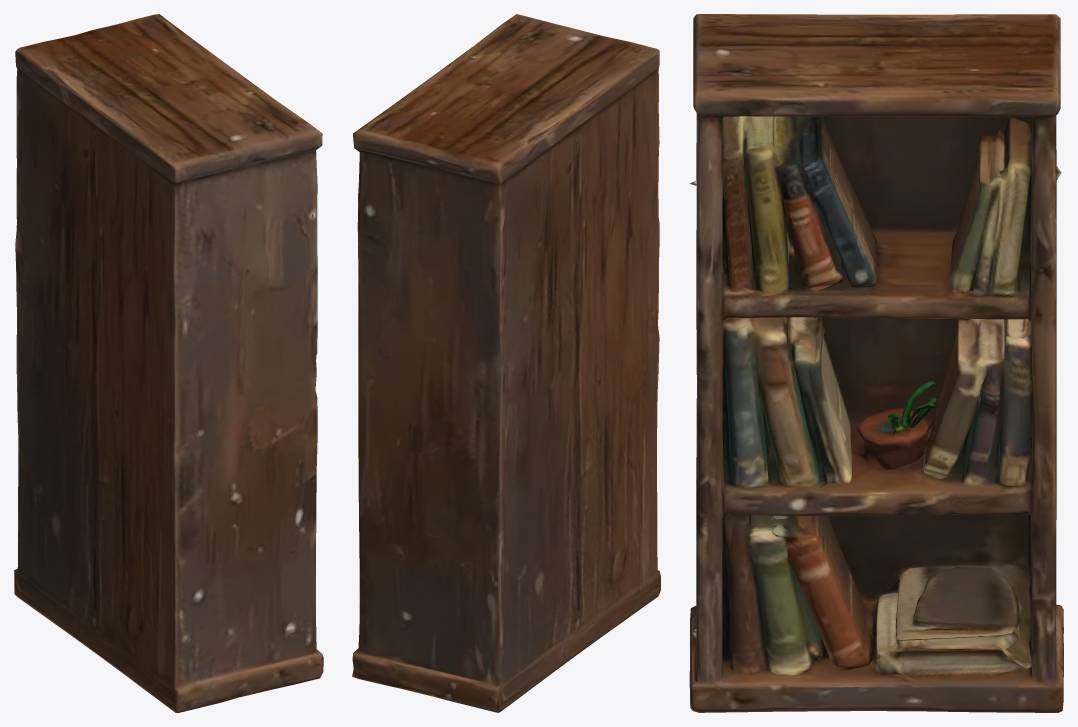
The model's file is de_bookshelf.glb.
3 views of the same model, side by side, from view 1: azimuth 30°, elevation 25°; view 2: azimuth 150°, elevation 25°; view 3: azimuth 270°, elevation 25° (orthographic). The views are drawn at different scales.
Visible parts, largest first — view 1: tripo_node_9f897ddc-5762-45e4-99fb-e1926f0b1fda; view 2: tripo_node_9f897ddc-5762-45e4-99fb-e1926f0b1fda; view 3: tripo_node_9f897ddc-5762-45e4-99fb-e1926f0b1fda.
Boxes of the visible parts, x1,y1,x2,y2 form: tripo_node_9f897ddc-5762-45e4-99fb-e1926f0b1fda: (14,14,323,712); tripo_node_9f897ddc-5762-45e4-99fb-e1926f0b1fda: (352,14,660,712); tripo_node_9f897ddc-5762-45e4-99fb-e1926f0b1fda: (689,14,1063,712).
Bounding box in the file's own units: 0.288 × 0.9992 × 0.5449.
1 material, 1 textured.
